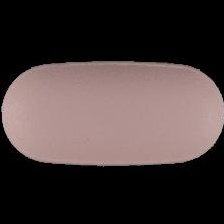49702-207: (0, 0, 224, 224)
